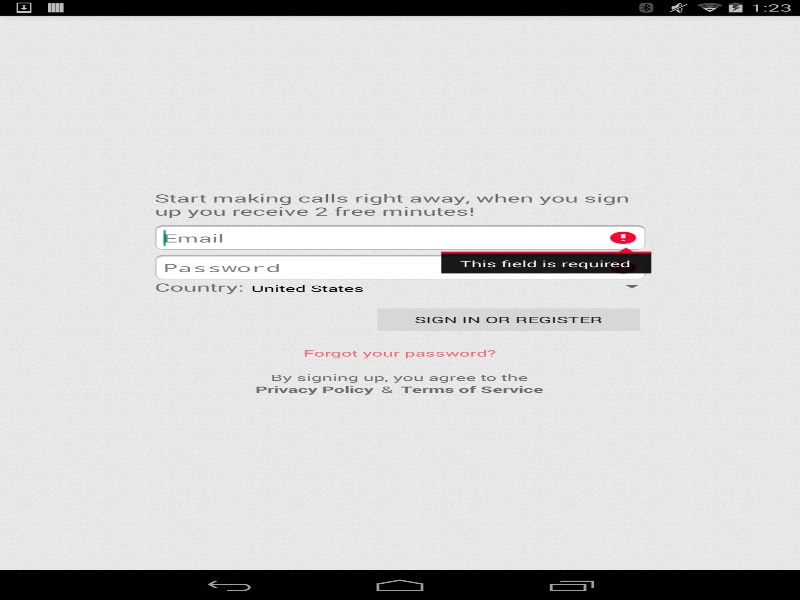Button: (372, 304, 645, 334)
Input: (154, 254, 645, 279), (154, 225, 645, 249)
